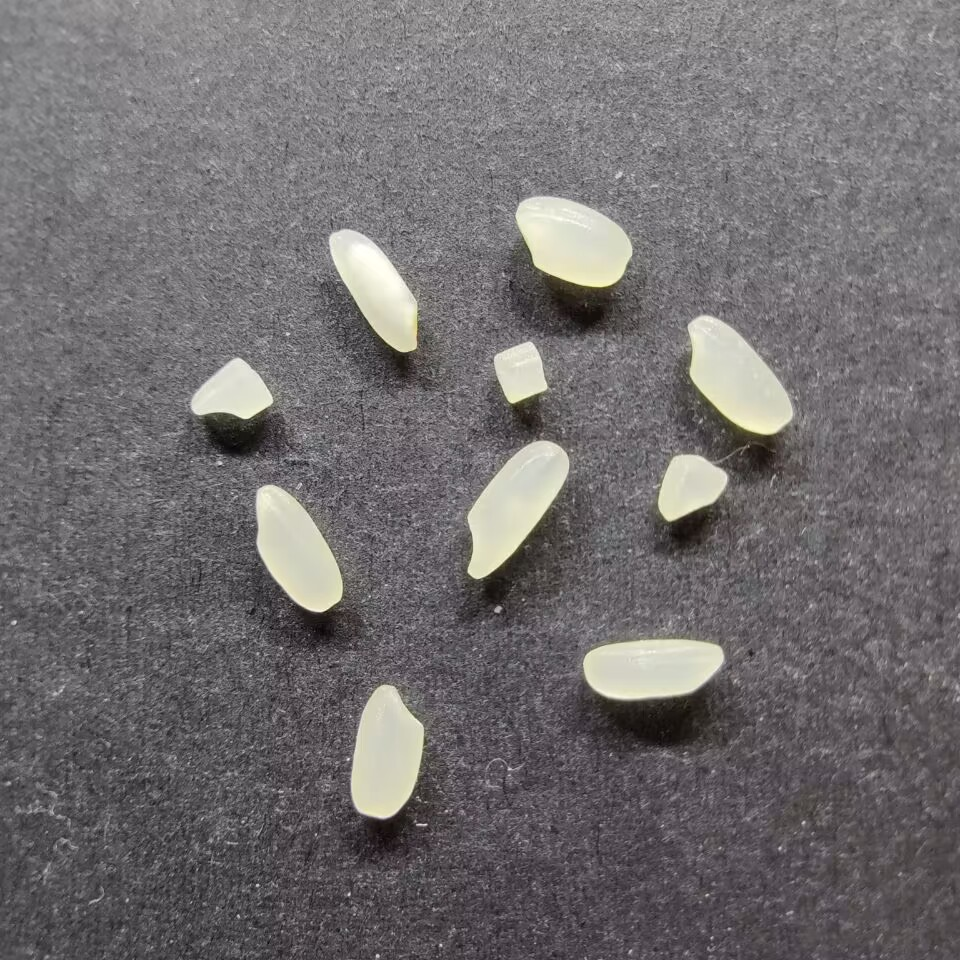broken: (189, 356, 275, 420), (657, 452, 728, 523), (493, 339, 548, 404)
rice: (464, 440, 570, 580), (686, 315, 793, 435), (253, 483, 343, 614), (328, 228, 420, 353), (514, 195, 633, 288), (349, 683, 424, 819), (582, 638, 725, 700)
